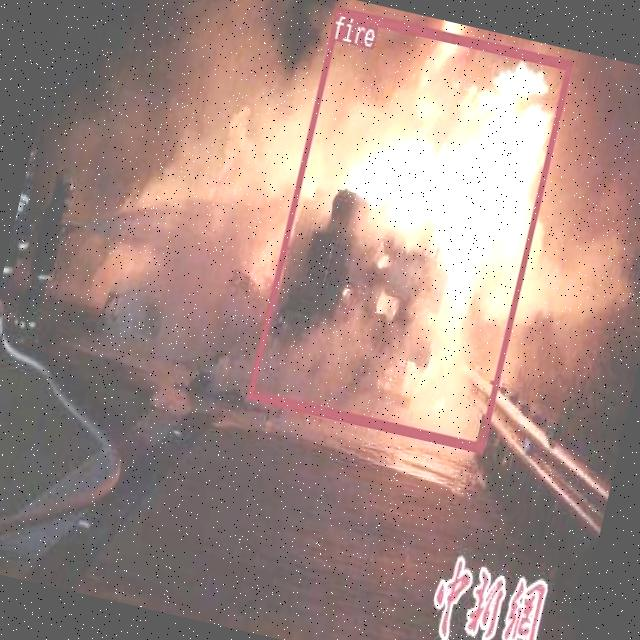fire: (246, 5, 572, 451)
